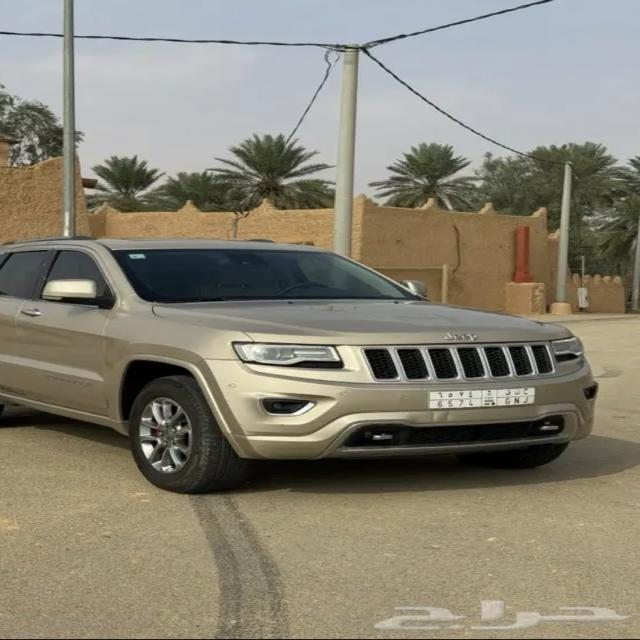license_plate: (426, 388, 537, 411)
